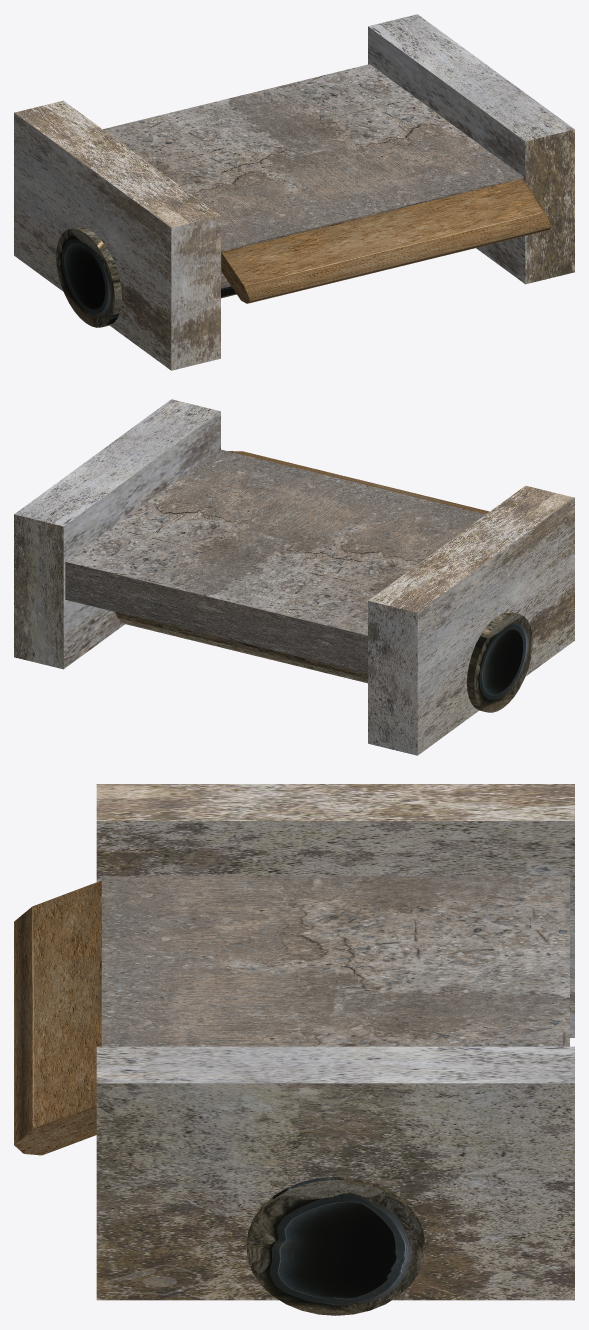
File: podetSantBun.fbx
3 renders of one model, top to bottom at view 1: azimuth 30°, elevation 25°; view 2: azimuth 150°, elevation 25°; view 3: azimuth 270°, elevation 25°, orthographic. The views are drawn at different scales.
Visible parts, largest first — view 1: Cube.002, Cube.001, Cube, Cube.003, Cylinder; view 2: Cube.002, Cube.001, Cube, Cylinder, Cube.003; view 3: Cube, Cube.002, Cube.001, Cube.003, Cylinder.
Boxes of the visible parts, bbox=[...] form: Cube.002: bbox=[103, 64, 523, 288]; Cube.001: bbox=[14, 100, 220, 370]; Cube: bbox=[368, 14, 574, 284]; Cube.003: bbox=[221, 178, 551, 303]; Cylinder: bbox=[56, 227, 236, 327]; Cube.002: bbox=[65, 449, 485, 673]; Cube.001: bbox=[368, 485, 574, 755]; Cube: bbox=[14, 399, 220, 669]; Cylinder: bbox=[115, 612, 532, 712]; Cube.003: bbox=[228, 451, 489, 513]; Cube: bbox=[96, 1046, 574, 1300]; Cube.002: bbox=[101, 876, 569, 1046]; Cube.001: bbox=[96, 784, 574, 1037]; Cube.003: bbox=[14, 880, 101, 1155]; Cylinder: bbox=[246, 1177, 425, 1315].
Bounding box in the file's own units: 608 × 211 × 468.
Materials: 5 (5 with a texture image).
